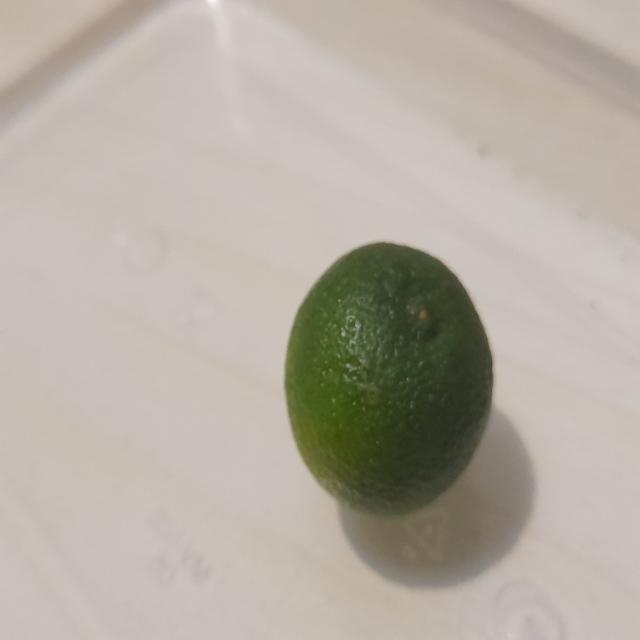heathy: (282, 232, 502, 520)
